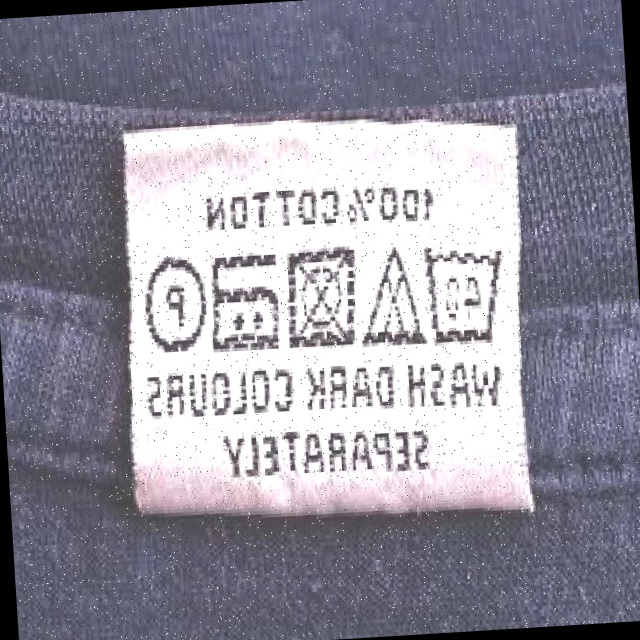40C: (418, 237, 511, 348)
DN_bleach: (359, 245, 427, 348)
DN_tumble_dry: (279, 242, 361, 349)
dry_clean_any_solvent_except_trichloroethylene: (142, 250, 210, 360)
iron_medium: (203, 248, 286, 356)
